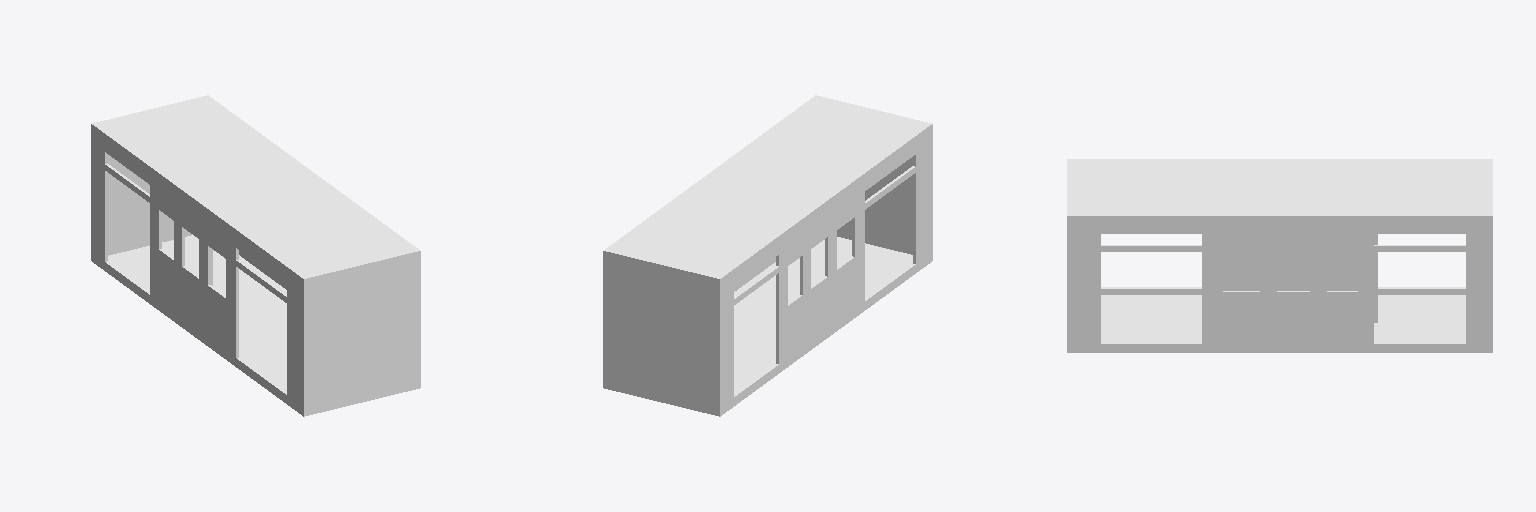
File: metro_wagon.obj
3 renders of one model, left to right at view 1: azimuth 30°, elevation 25°; view 2: azimuth 150°, elevation 25°; view 3: azimuth 270°, elevation 25°, orthographic.
Visible parts, largest first — view 1: metro_wagon; view 2: metro_wagon; view 3: metro_wagon.
Boxes of the visible parts, <box> form: metro_wagon: <box>91,95,420,416</box>; metro_wagon: <box>603,95,932,416</box>; metro_wagon: <box>1067,159,1492,352</box>.
Size of the model in its own units: 40 by 45 by 126.